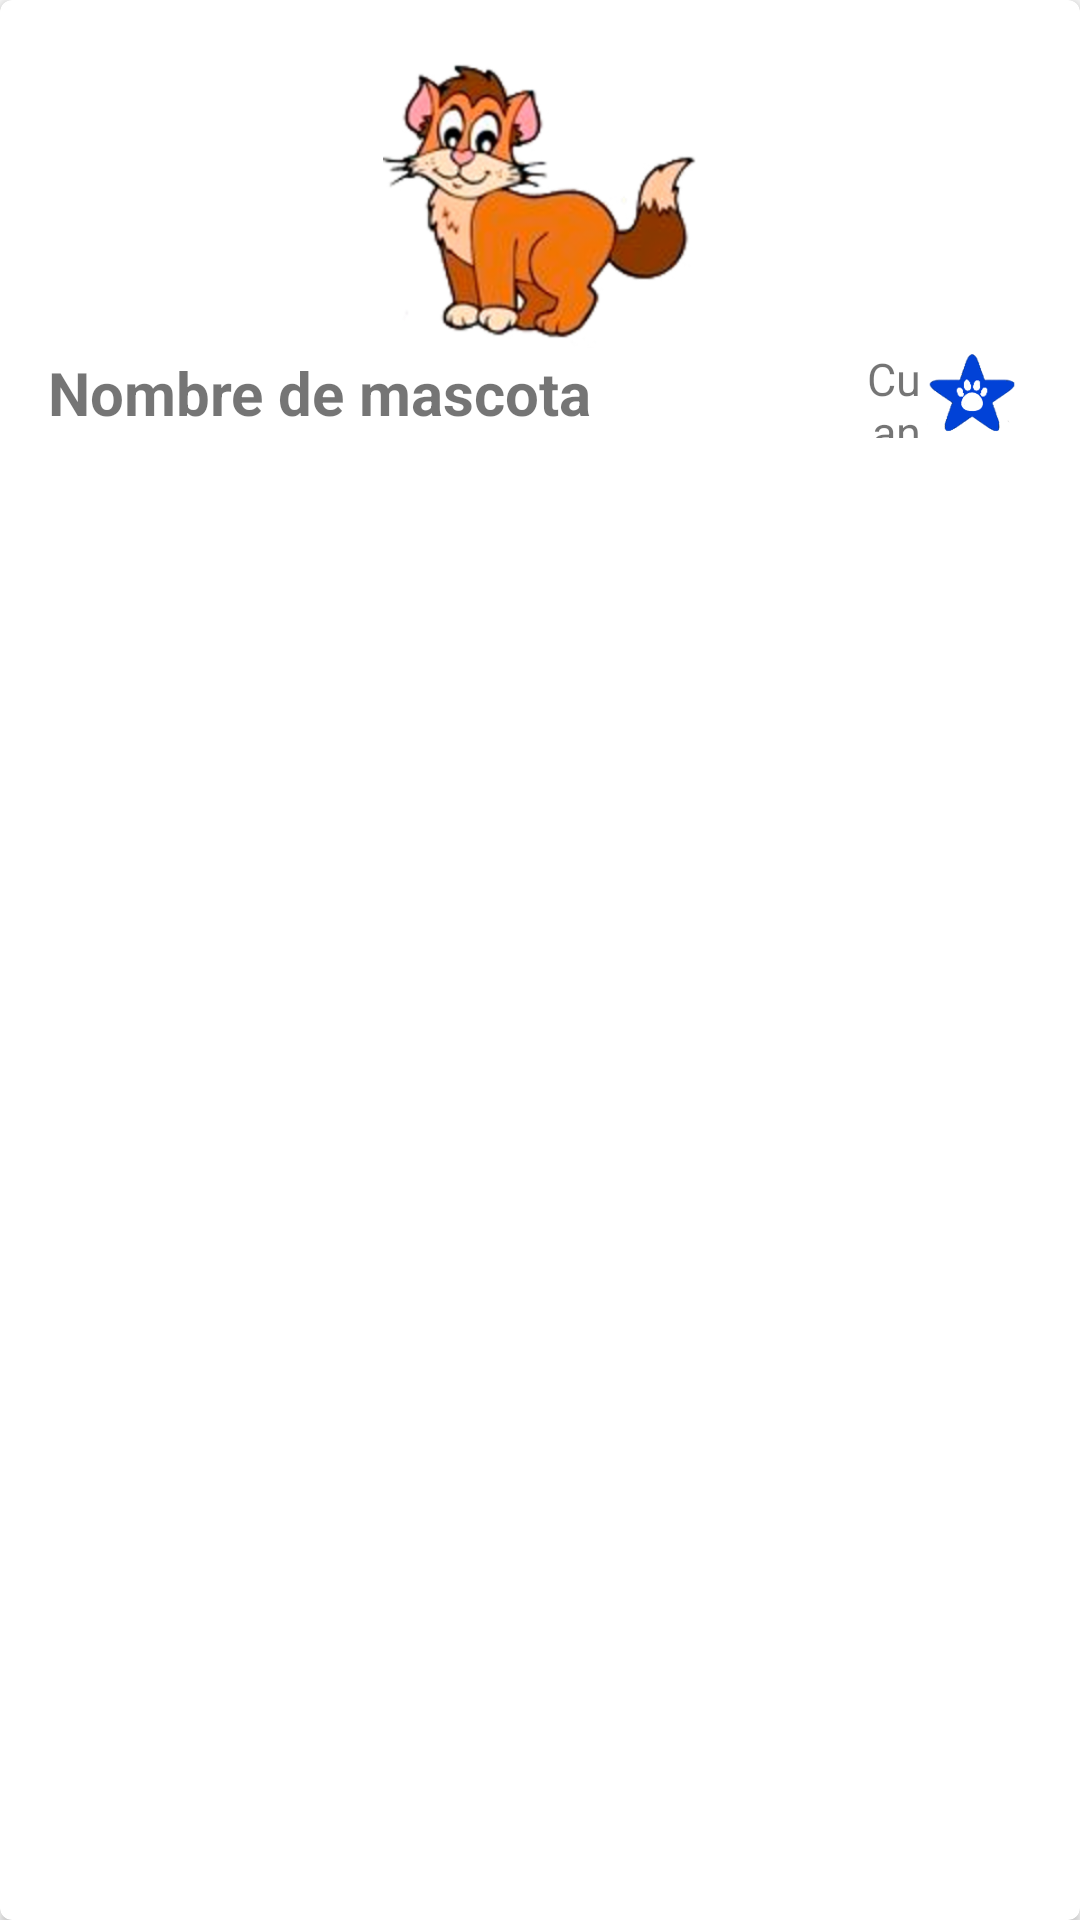

Where to tap for icons on this 1080 x 1920 app screen, as (x,y):
estrellaspet: (972,392)
gato: (539,201)
